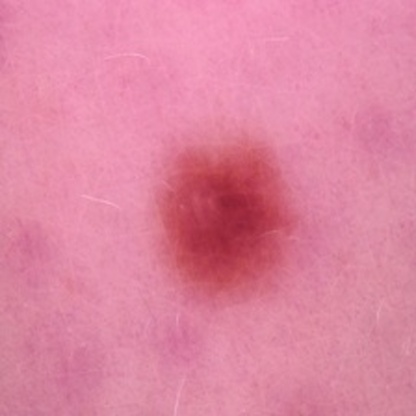benign: (155, 147, 287, 283)
